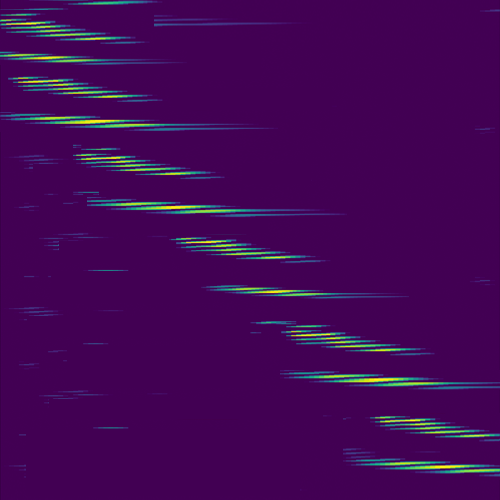semblance: (71, 142, 207, 182), (85, 194, 255, 222), (1, 10, 132, 45), (275, 322, 404, 355), (8, 72, 136, 104), (169, 235, 301, 264), (366, 413, 495, 440), (297, 368, 451, 390), (20, 110, 173, 132), (361, 456, 500, 477), (217, 282, 341, 304), (2, 49, 129, 68)
